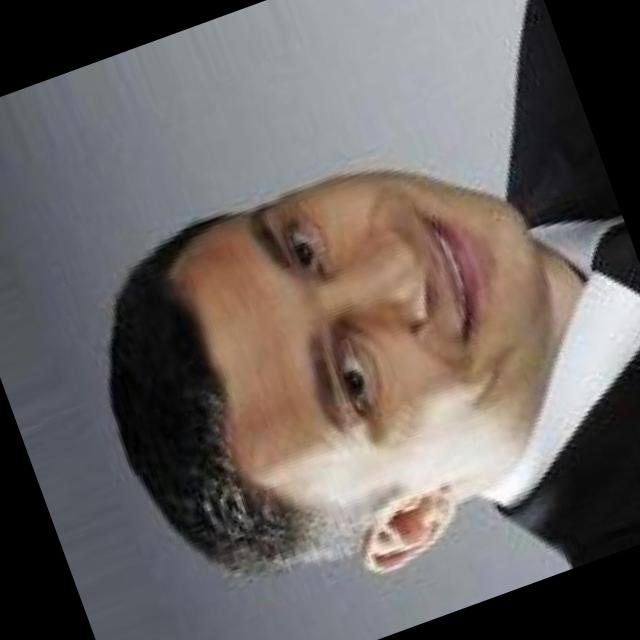bareface: (105, 112, 585, 530)
